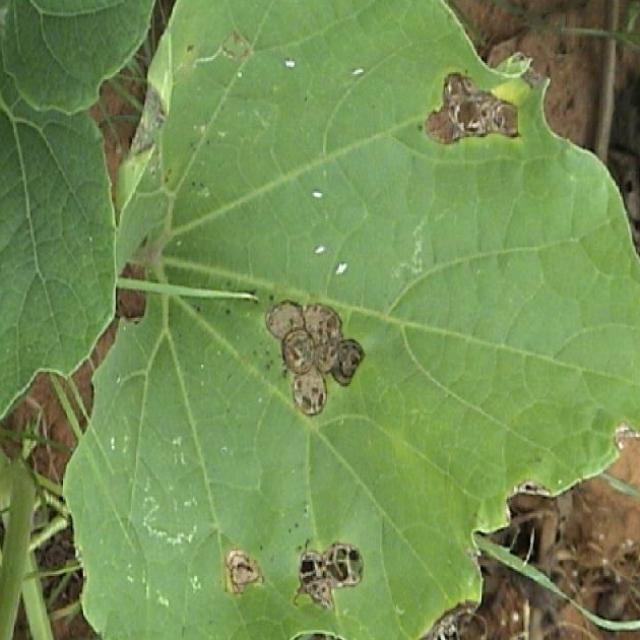Pumpkin Beetle: (257, 278, 369, 430), (397, 64, 536, 162), (282, 533, 368, 625), (214, 543, 272, 613)
